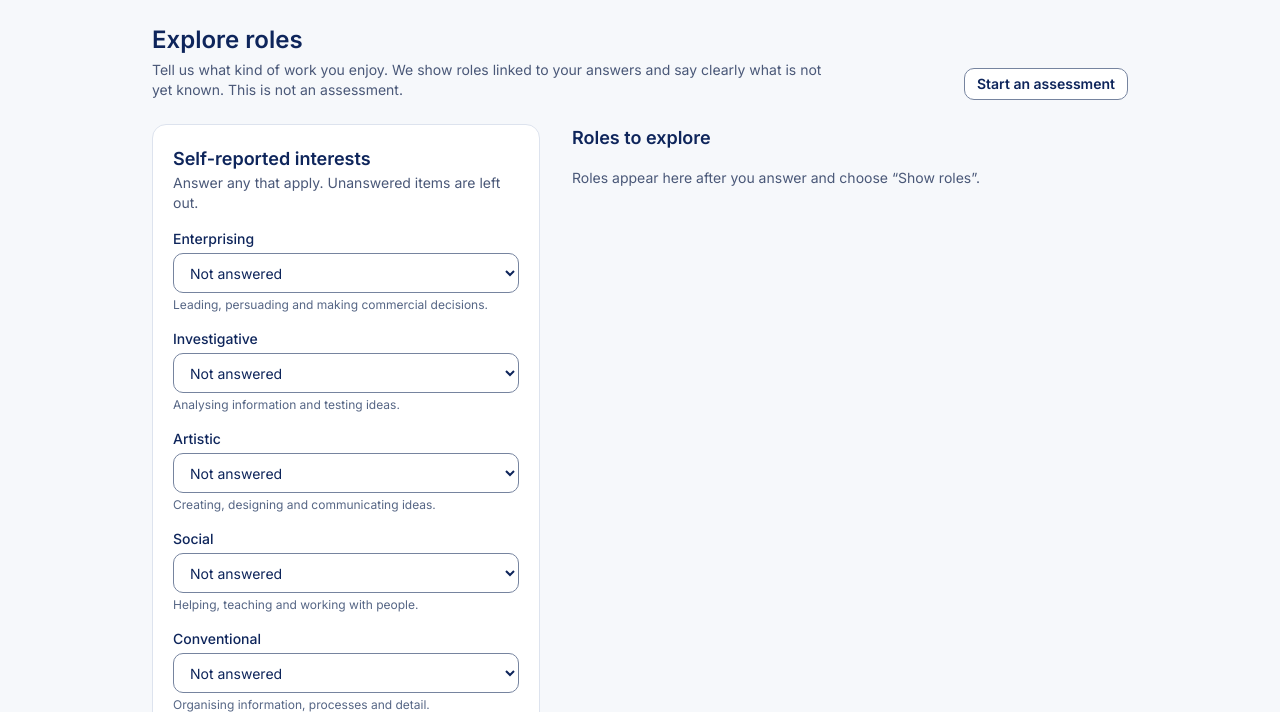
Scenario: ExploreMode (fail closed) › sends only answered interests and labels every reason by its source
Select "Very much" in the dropdown labelled "Enterprising" at [346, 273], box [173,253,519,293]
(page scrolled)
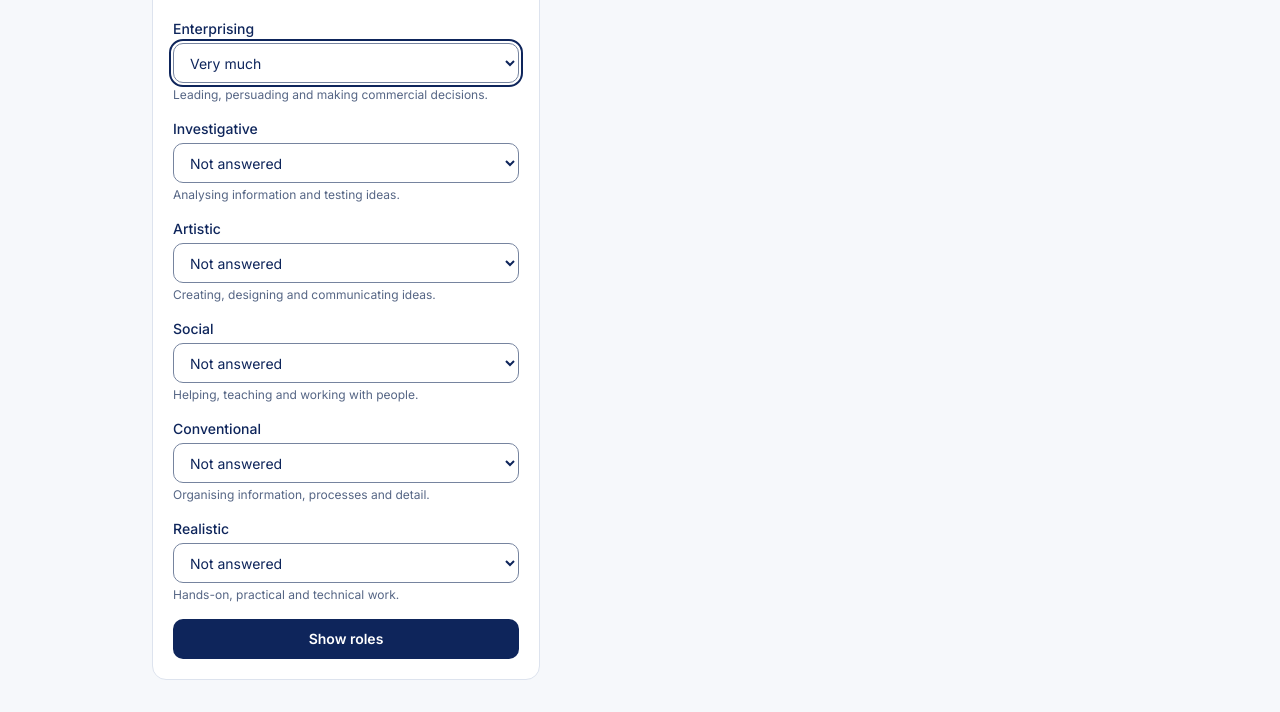
Click the button "Show roles".
click(346, 639)  # box [173,619,519,659]
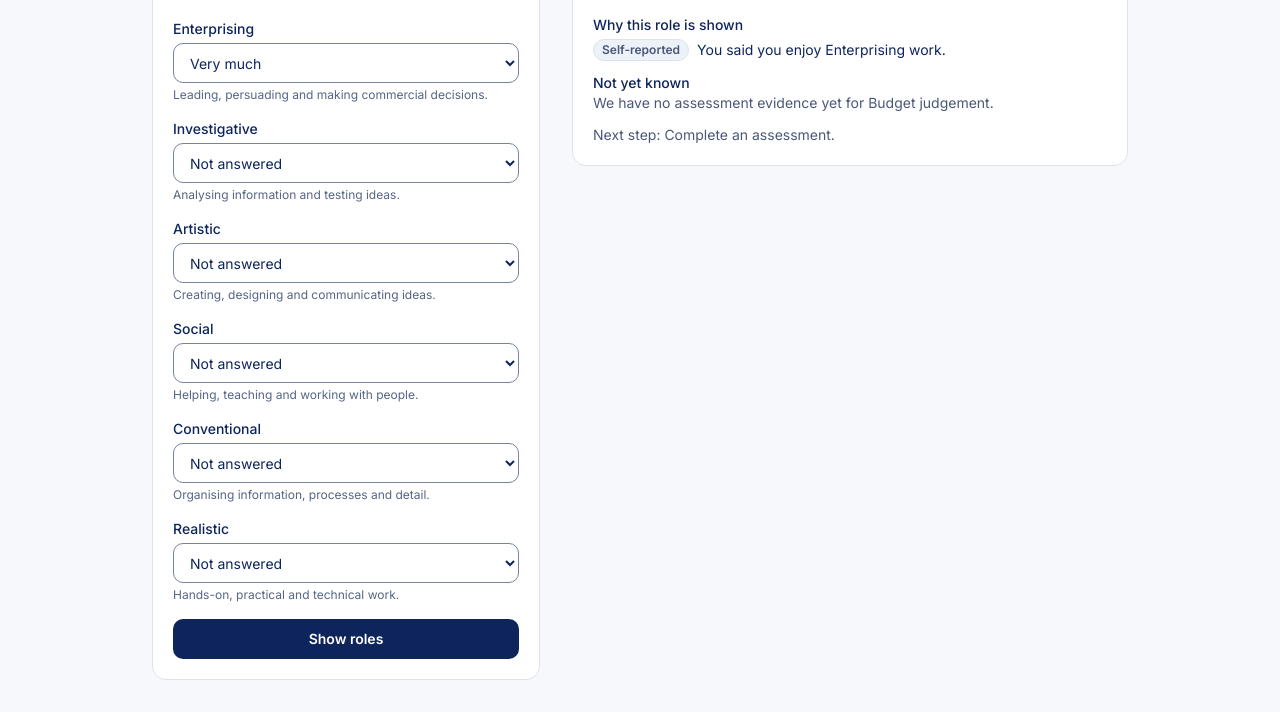
Expected: the text "Self-reported" is shown, [593,39,689,61]
Expected: the text "We have no assessment evidence yet for Budget judgement." is shown, [593,94,994,111]
